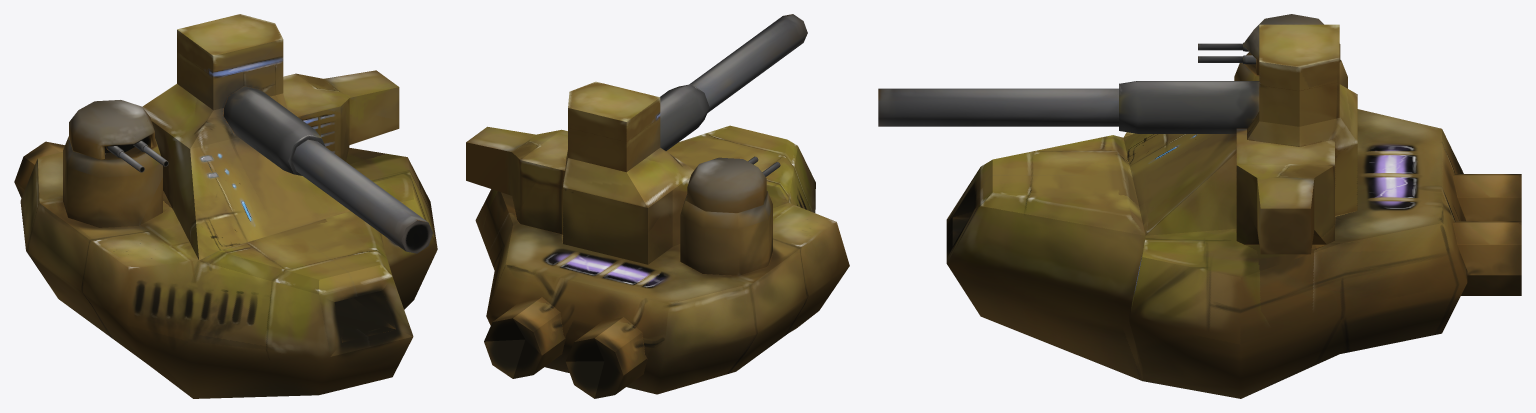
The model's file is tank.fbx.
3 renders of one model, left to right at view 1: azimuth 30°, elevation 25°; view 2: azimuth 150°, elevation 25°; view 3: azimuth 270°, elevation 25°, orthographic. The views are drawn at different scales.
Visible parts, largest first — view 1: heavy ship, heavy ship mane gun, heavy ship circle gun; view 2: heavy ship, heavy ship mane gun, heavy ship circle gun; view 3: heavy ship, heavy ship mane gun, heavy ship circle gun.
Part boxes in pixels (x1=…): heavy ship: x1=14, y1=14, x2=437, y2=398; heavy ship mane gun: x1=292, y1=139, x2=432, y2=253; heavy ship circle gun: x1=69, y1=100, x2=168, y2=172; heavy ship: x1=466, y1=81, x2=849, y2=398; heavy ship mane gun: x1=689, y1=14, x2=807, y2=112; heavy ship circle gun: x1=687, y1=156, x2=780, y2=212; heavy ship: x1=946, y1=24, x2=1521, y2=398; heavy ship mane gun: x1=878, y1=88, x2=1118, y2=126; heavy ship circle gun: x1=1198, y1=14, x2=1340, y2=74.
Bounding box in the file's own units: 103 × 78.21 × 148.
